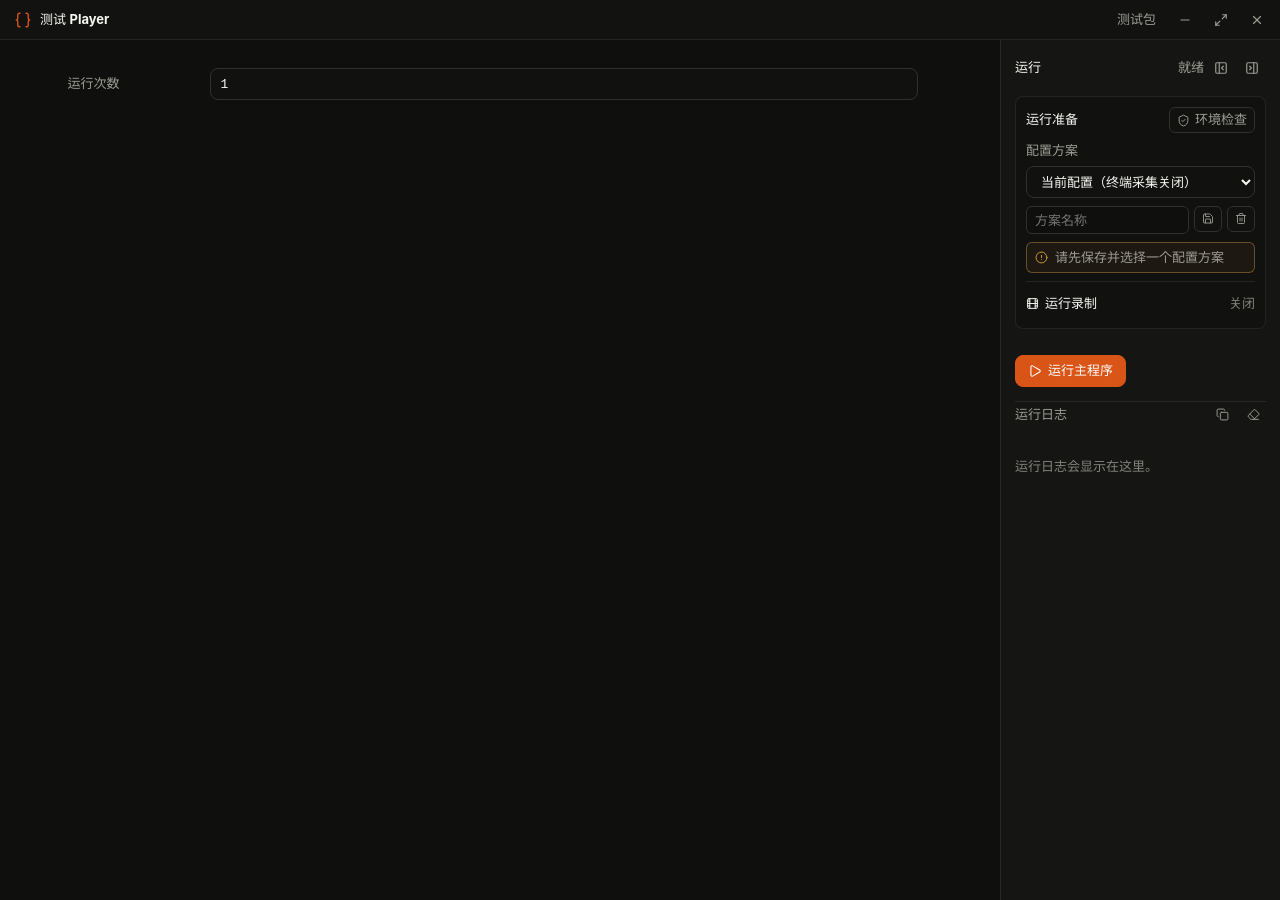
VNextPlayerApp error and session lifecycle › 实例服务连续失联时保留现场并指向控制台诊断而不是冒充脚本失败
The image size is (1280, 900).
Step 1. Click the button "运行主程序" → (1070, 370), box x1=1015 y1=354 x2=1126 y2=386
Wait 1500 ms
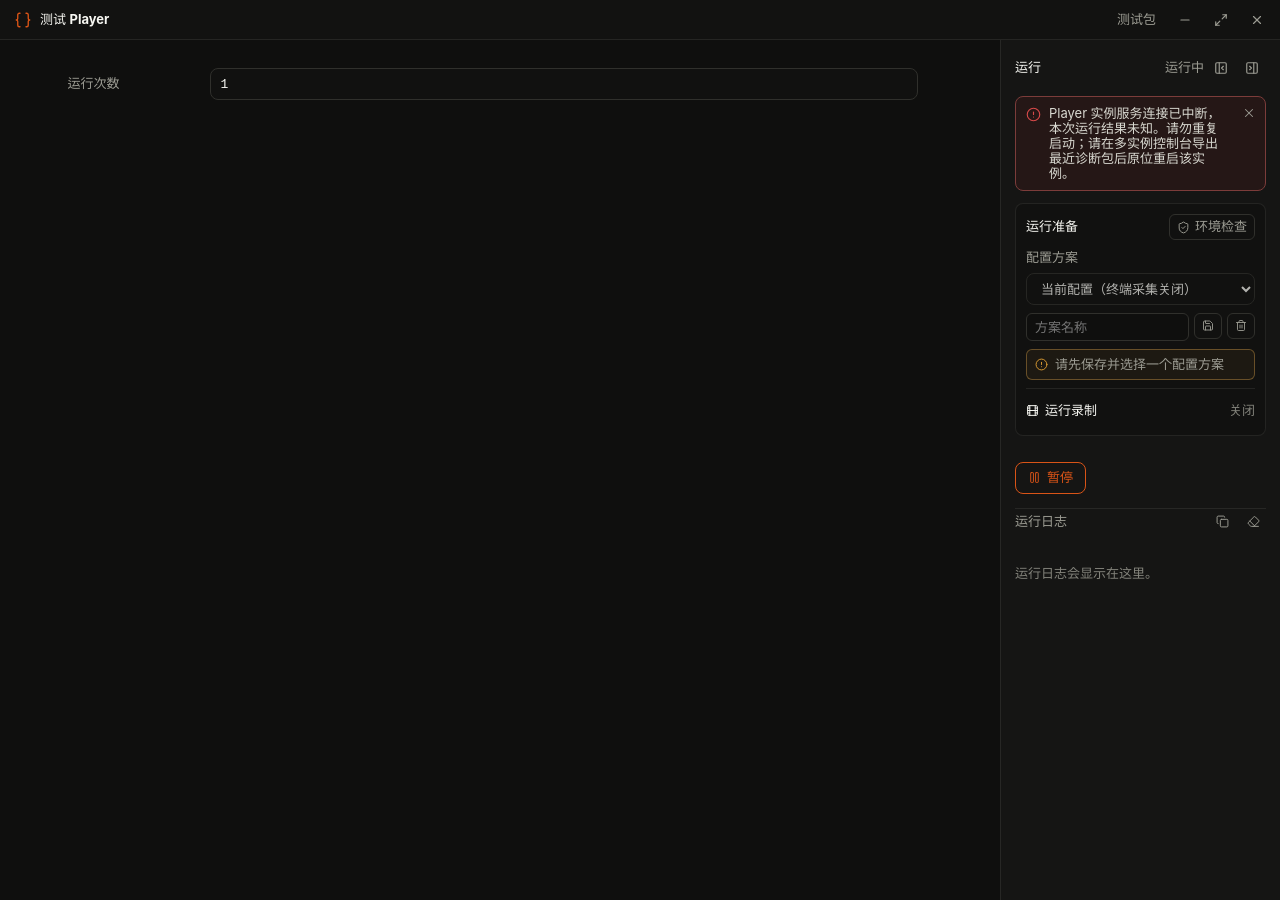
Now the message with class "runtime-error" shows "本次运行结果未知", box x1=1049 y1=105 x2=1221 y2=181
Now the message with class "runtime-error" shows "导出最近诊断包", box x1=1049 y1=105 x2=1221 y2=181
